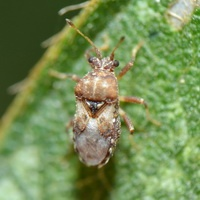insect: (49, 19, 142, 166)
